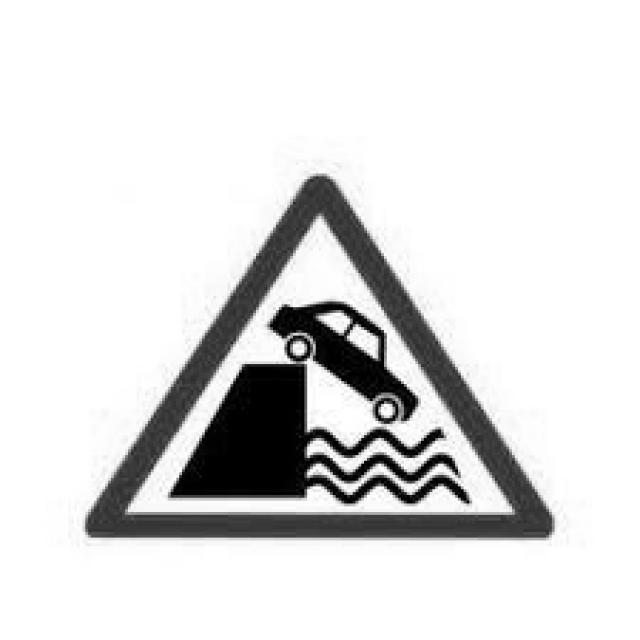quay side or river bank: (78, 169, 563, 550)
